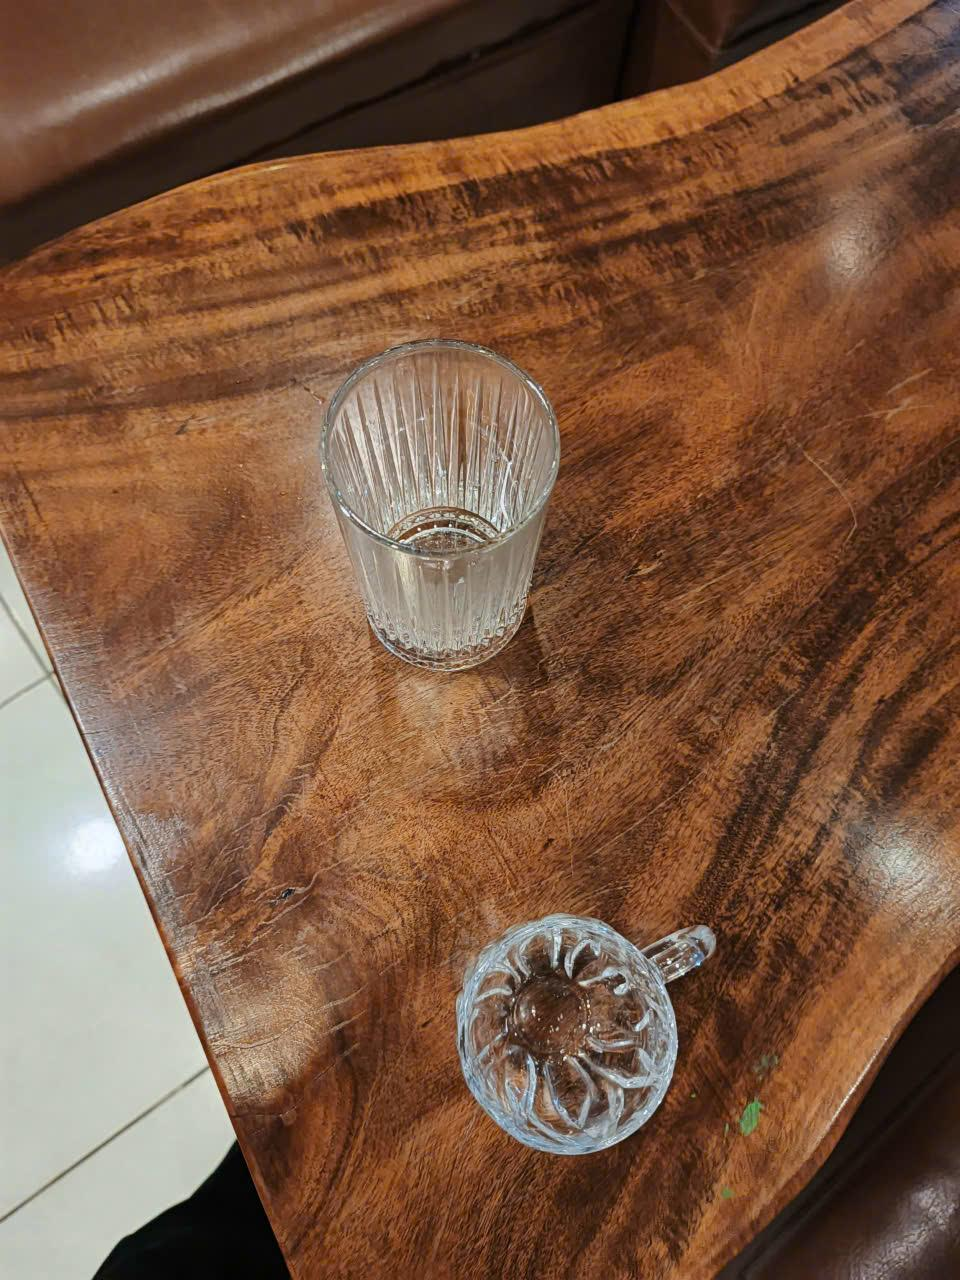Vo co: (325, 346, 560, 669), (460, 915, 714, 1163)
